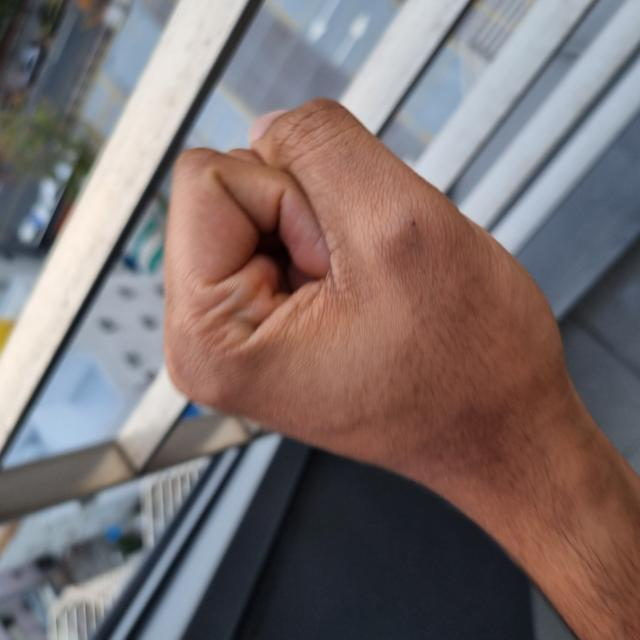Rock: (135, 159, 537, 569)
